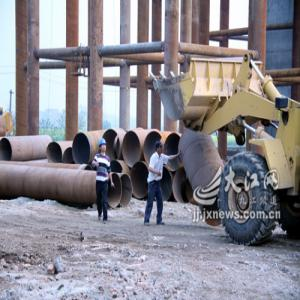blue: (99, 137, 108, 155), (157, 141, 165, 156)
